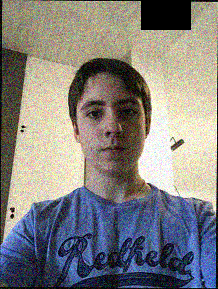without_mask: (77, 93, 146, 177)
